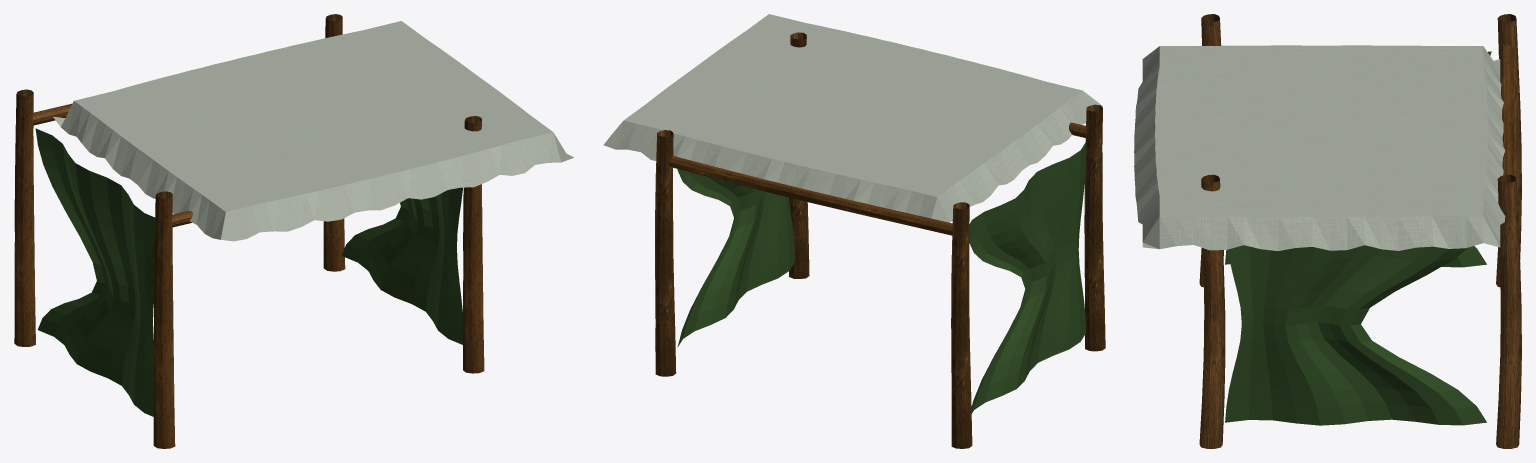
Rendered from BLD_HealingCanopy_cloth.glb.
3 renders of one model, left to right at view 1: azimuth 30°, elevation 25°; view 2: azimuth 150°, elevation 25°; view 3: azimuth 270°, elevation 25°, orthographic. The views are drawn at different scales.
Visible parts, largest first — view 1: geometry_6, geometry_7, geometry_8, geometry_0, geometry_2, geometry_3, geometry_1; view 2: geometry_6, geometry_7, geometry_8, geometry_0, geometry_1, geometry_2, geometry_5, geometry_3; view 3: geometry_6, geometry_8, geometry_1, geometry_3, geometry_0, geometry_5, geometry_2, geometry_7.
Boxes of the visible parts, <box> form: geometry_6: <box>53,21,573,241</box>; geometry_7: <box>35,128,155,416</box>; geometry_8: <box>341,187,462,344</box>; geometry_0: <box>14,89,35,346</box>; geometry_2: <box>153,191,175,448</box>; geometry_3: <box>463,116,484,373</box>; geometry_1: <box>323,14,345,271</box>; geometry_6: <box>603,14,1102,222</box>; geometry_7: <box>969,141,1086,413</box>; geometry_8: <box>677,169,794,347</box>; geometry_0: <box>951,202,972,448</box>; geometry_1: <box>655,130,676,376</box>; geometry_2: <box>1084,104,1105,351</box>; geometry_5: <box>669,156,952,235</box>; geometry_3: <box>788,32,809,278</box>; geometry_6: <box>1134,45,1505,250</box>; geometry_8: <box>1225,245,1486,425</box>; geometry_1: <box>1496,174,1521,448</box>; geometry_3: <box>1199,174,1225,448</box>; geometry_0: <box>1496,14,1521,287</box>; geometry_5: <box>1501,45,1514,175</box>; geometry_2: <box>1199,14,1223,287</box>; geometry_7: <box>1225,51,1491,267</box>.
Size of the model in its own units: 2.98 by 1.82 by 2.41.
4 materials, 3 textured.
